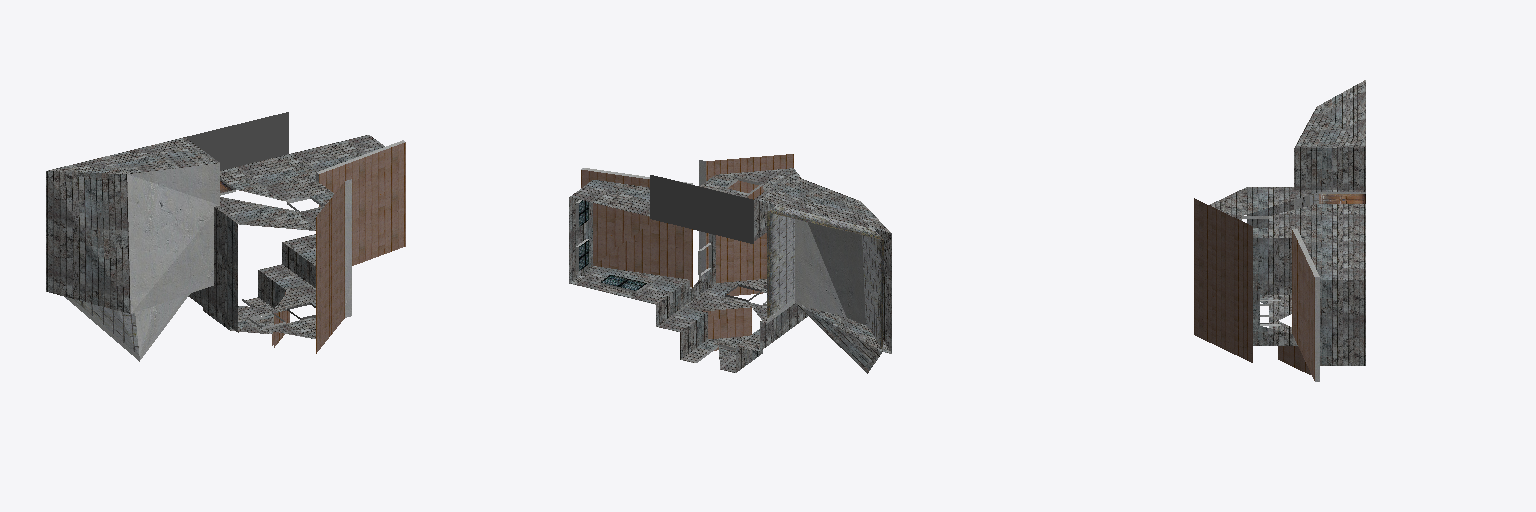
The picture shows the model from 3 angles: view 1: azimuth 30°, elevation 25°; view 2: azimuth 150°, elevation 25°; view 3: azimuth 270°, elevation 25°; orthographic projection.
Parts seen in each view (by area): view 1: house1, tiles1; view 2: house1, tiles1; view 3: house1.
Part boxes in pixels (x1,y1,x2,y2): house1: (46, 135, 405, 361); tiles1: (185, 112, 288, 170); house1: (569, 154, 891, 373); tiles1: (650, 175, 753, 243); house1: (1194, 80, 1365, 381).
Size of the model in its own units: 21.74 by 11.84 by 9.69.
Materials: 7 (6 with a texture image).